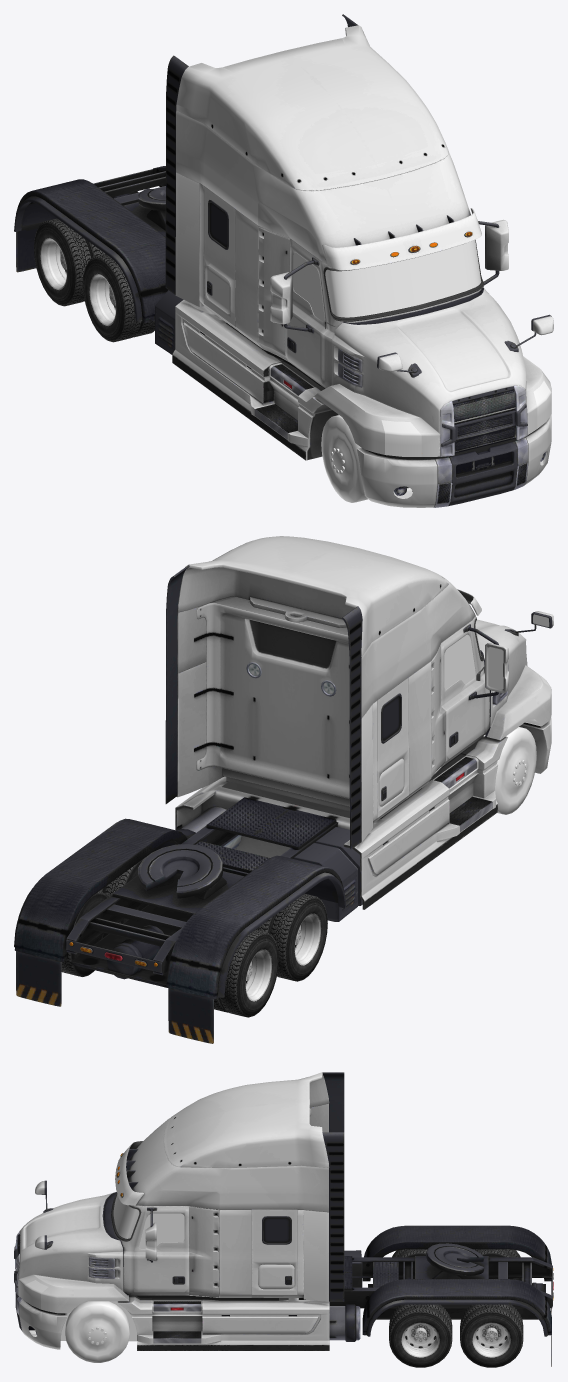
Rendered from mack-anthem.glb.
3 renders of one model, top to bottom at view 1: azimuth 30°, elevation 25°; view 2: azimuth 150°, elevation 25°; view 3: azimuth 270°, elevation 25°, orthographic. The views are drawn at different scales.
Parts seen in each view (by area): view 1: Paint_5, Add_5, Windshield_5, rear_low_0_85, rear_low_0_83, front_low0_43, Glass, Int_5; view 2: Paint_5, Add_5, rear_low_0_83, rear_low_0_85, front_low0_43, Int_5, Windshield_5, rear_low_0_84, Mirrors_3; view 3: Paint_5, Add_5, rear_low_0_84, rear_low_0_82, front_low0_42, Windshield_5, Int_5, Glass, rear_low_0_85, Chassis.
Boxes of the visible parts, bbox=[...] form: Paint_5: bbox=[172, 25, 553, 507]; Add_5: bbox=[14, 14, 551, 507]; Windshield_5: bbox=[293, 240, 481, 321]; rear_low_0_85: bbox=[34, 218, 105, 306]; rear_low_0_83: bbox=[83, 254, 154, 342]; front_low0_43: bbox=[321, 415, 367, 502]; Glass: bbox=[381, 381, 551, 456]; Int_5: bbox=[274, 240, 484, 390]; Paint_5: bbox=[175, 536, 553, 909]; Add_5: bbox=[14, 565, 552, 1043]; rear_low_0_83: bbox=[256, 893, 327, 981]; rear_low_0_85: bbox=[214, 929, 278, 1017]; front_low0_43: bbox=[495, 727, 536, 814]; Int_5: bbox=[222, 617, 486, 817]; Windshield_5: bbox=[444, 624, 481, 689]; rear_low_0_84: bbox=[61, 891, 108, 976]; Mirrors_3: bbox=[488, 614, 549, 689]; Paint_5: bbox=[18, 1072, 329, 1350]; Add_5: bbox=[14, 1072, 552, 1366]; rear_low_0_84: bbox=[460, 1304, 523, 1367]; rear_low_0_82: bbox=[389, 1304, 452, 1367]; front_low0_42: bbox=[65, 1301, 129, 1362]; Windshield_5: bbox=[113, 1194, 184, 1248]; Int_5: bbox=[111, 1193, 288, 1300]; Glass: bbox=[24, 1280, 48, 1309]; rear_low_0_85: bbox=[473, 1249, 522, 1280]; Chassis: bbox=[61, 1295, 136, 1341].
Size of the model in its own units: 3.03 by 3.94 by 8.33.
4 materials, 3 textured.
